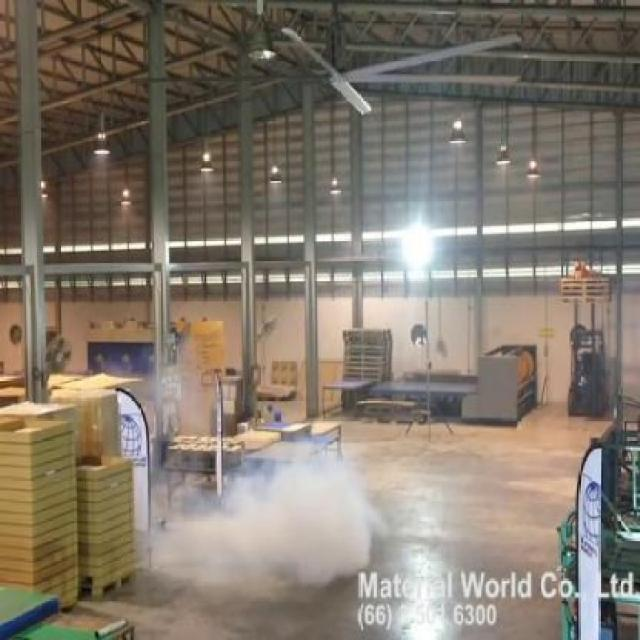fire: (182, 437, 390, 592)
